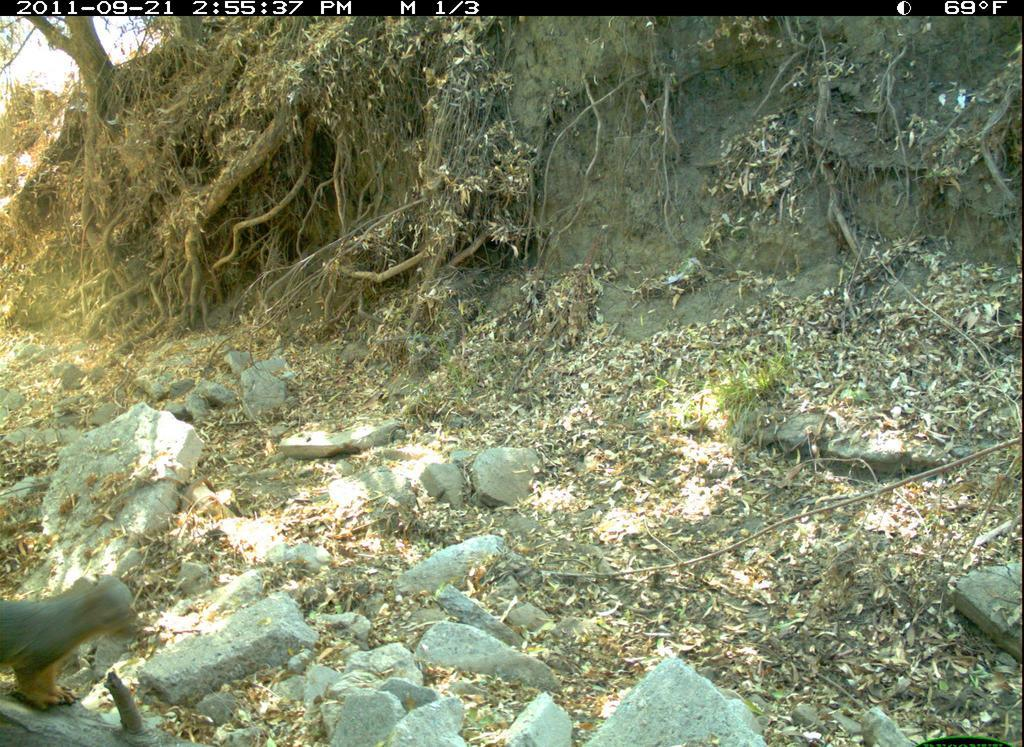squirrel: (4, 564, 158, 719)
